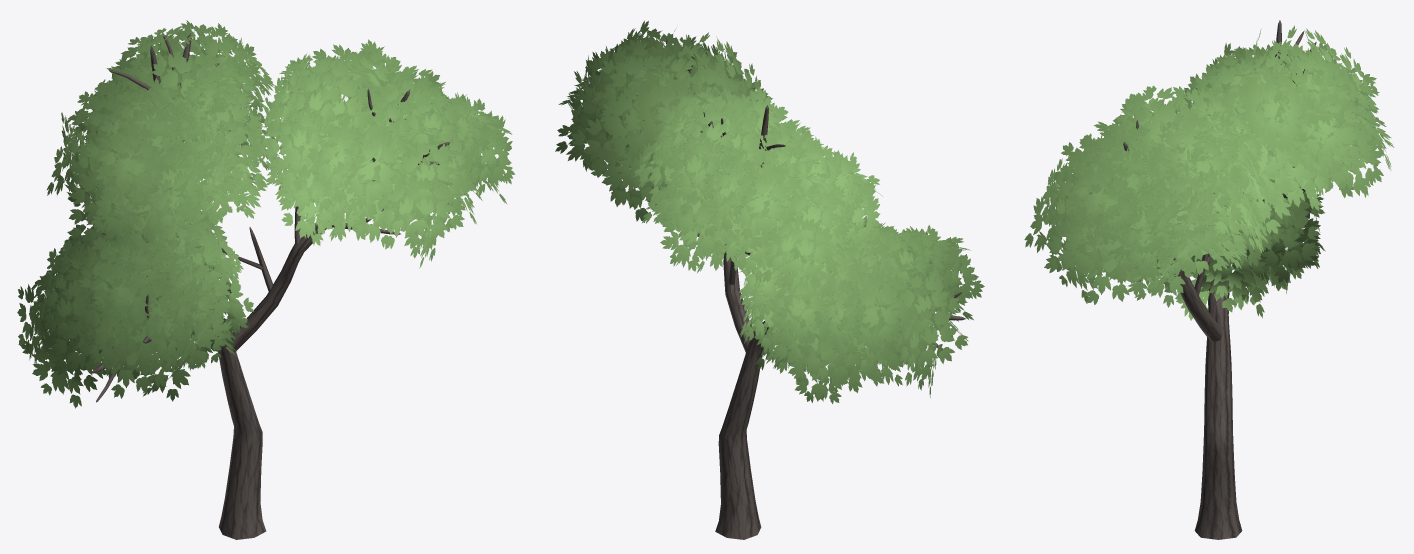
The model's file is MapleTree_5.glb.
3 views of the same model, side by side, from view 1: azimuth 30°, elevation 25°; view 2: azimuth 150°, elevation 25°; view 3: azimuth 270°, elevation 25° (orthographic). The views are drawn at different scales.
Visible parts, largest first — view 1: MapleTree_5; view 2: MapleTree_5; view 3: MapleTree_5.
Part boxes in pixels (box(x1,y1,x2,y2)): MapleTree_5: box(17, 20, 515, 539); MapleTree_5: box(555, 20, 984, 539); MapleTree_5: box(1024, 20, 1394, 539).
Size of the model in its own units: 7.01 by 7.28 by 5.08.
2 materials, 2 textured.
